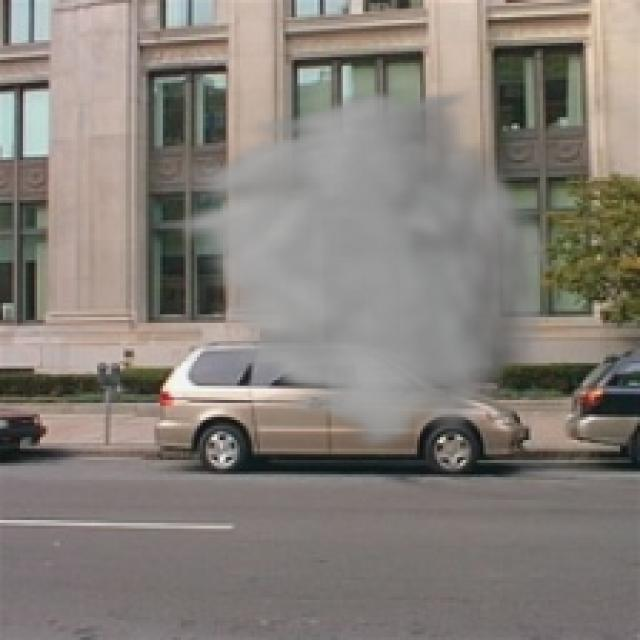smoke: (160, 86, 560, 454)
